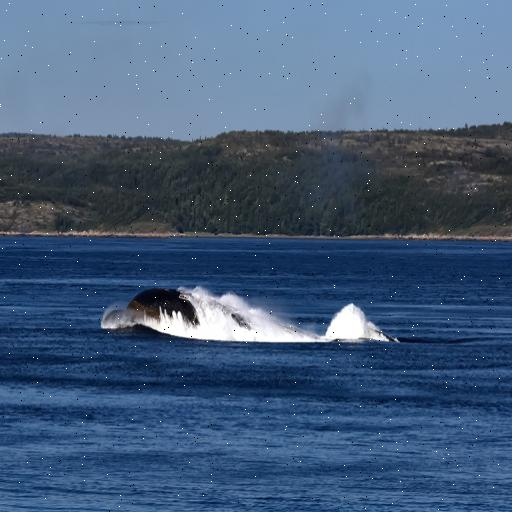submarine: (126, 288, 404, 342)
